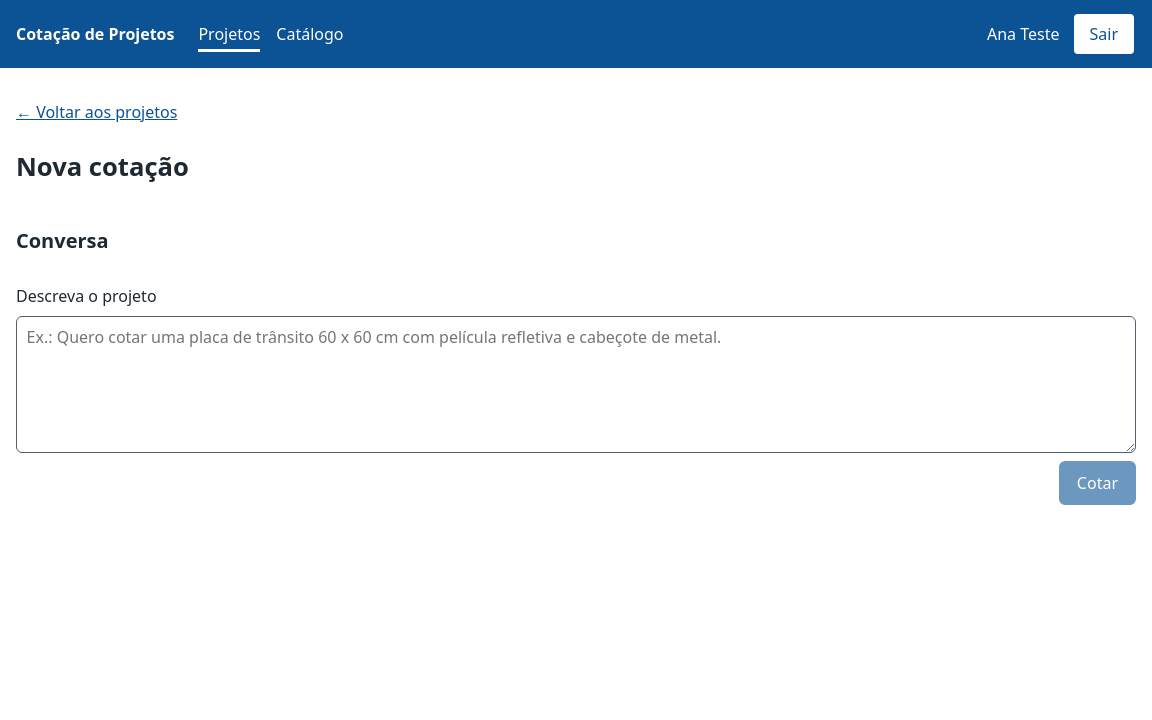
Test case: Nova cotação › lista os itens que não estão no catálogo, sem calcular valor (RN03)
The width and height of the screenshot is (1152, 720).
Step 1. Type "Placa com cabeçote de metal" into the text box labelled "Descreva o projeto" → coordinates (576, 385), box [16,316,1136,453]
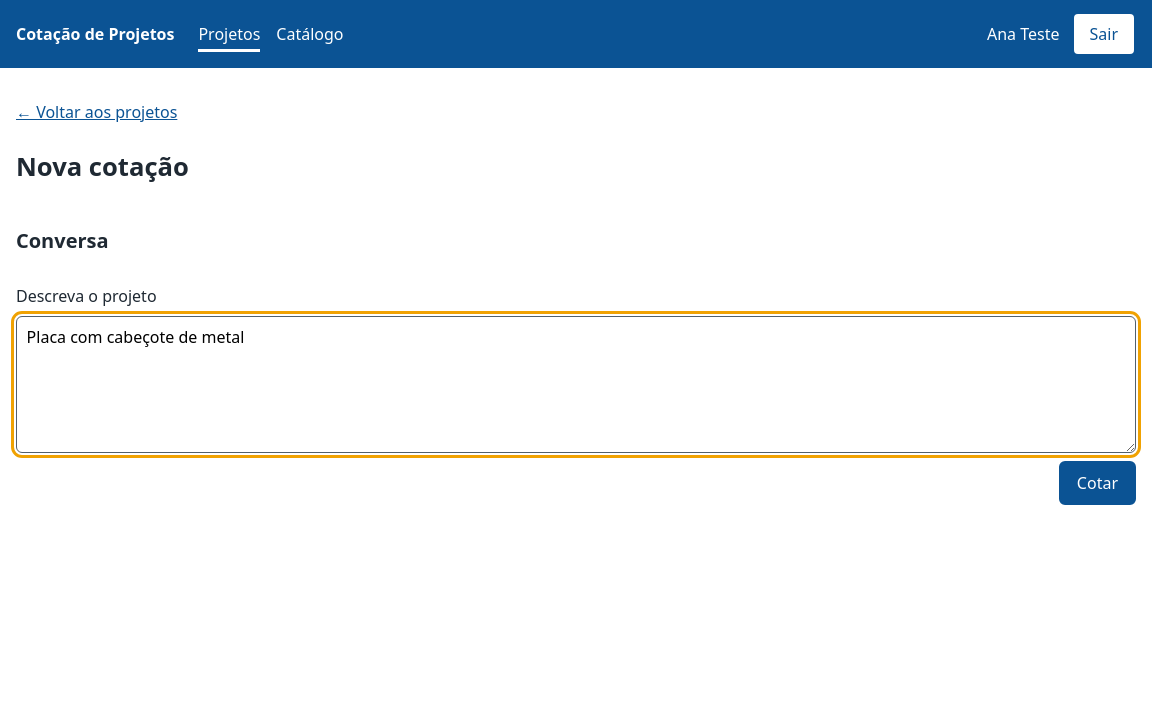
Step 2. Click the button "Cotar" → coordinates (1097, 483), box [1059,461,1136,505]
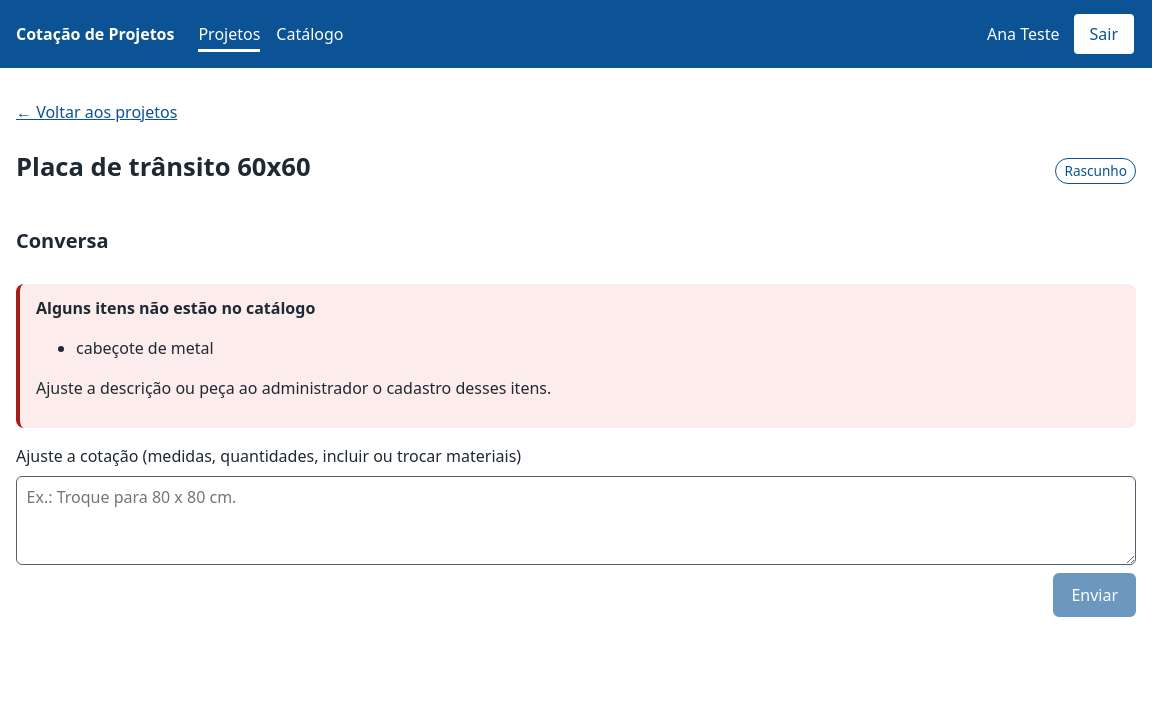
Expected: the message shows "Alguns itens não estão no catálogo", [36,297,315,319]
Expected: the list item "cabeçote de metal" is shown, [76,337,214,359]
